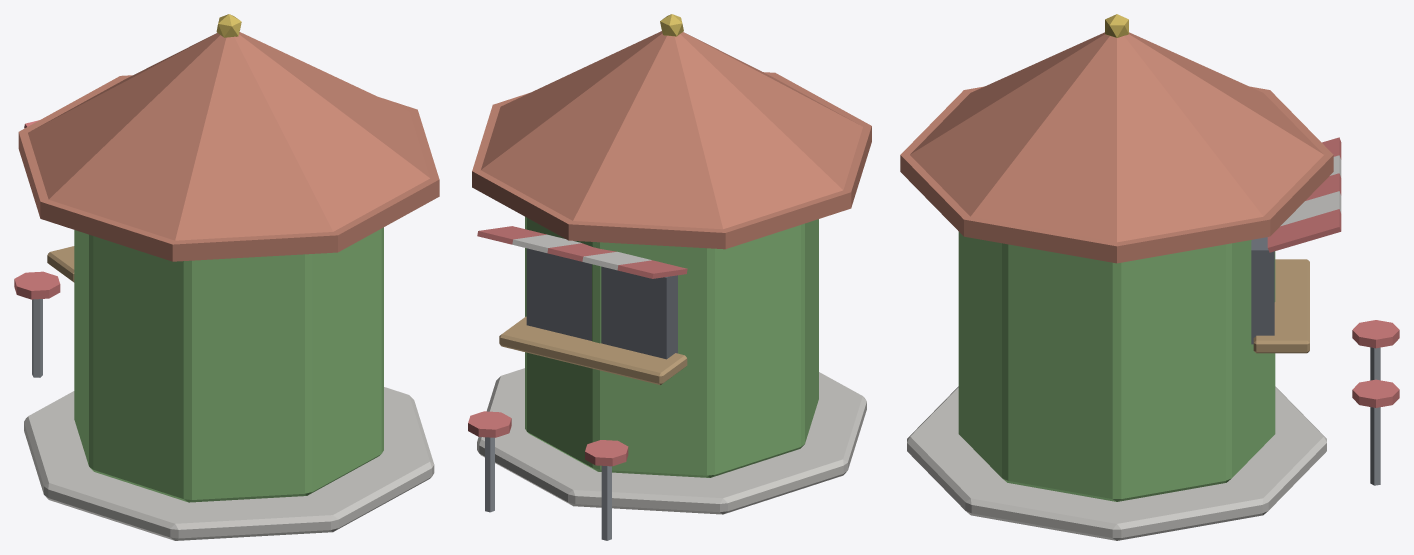
The model's file is mobiliario__quiosque.glb.
3 views of the same model, side by side, from view 1: azimuth 30°, elevation 25°; view 2: azimuth 150°, elevation 25°; view 3: azimuth 270°, elevation 25° (orthographic). The views are drawn at different scales.
Parts seen in each view (by area): view 1: mobiliario__quiosque; view 2: mobiliario__quiosque; view 3: mobiliario__quiosque.
Boxes of the visible parts, <box> form: mobiliario__quiosque: <box>14,14,439,540</box>; mobiliario__quiosque: <box>468,14,871,540</box>; mobiliario__quiosque: <box>900,14,1399,540</box>.
Size of the model in its own units: 0.92 by 1.03 by 1.06.
